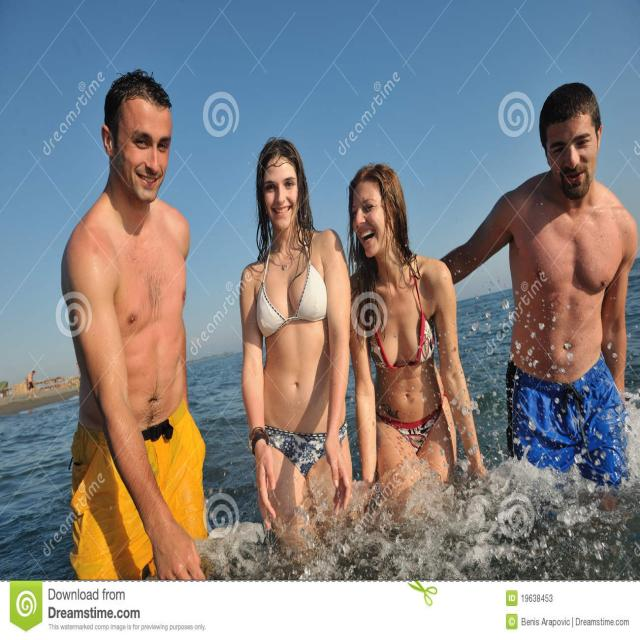body: (430, 79, 639, 520), (60, 69, 208, 582), (344, 161, 488, 524), (238, 137, 355, 550)
